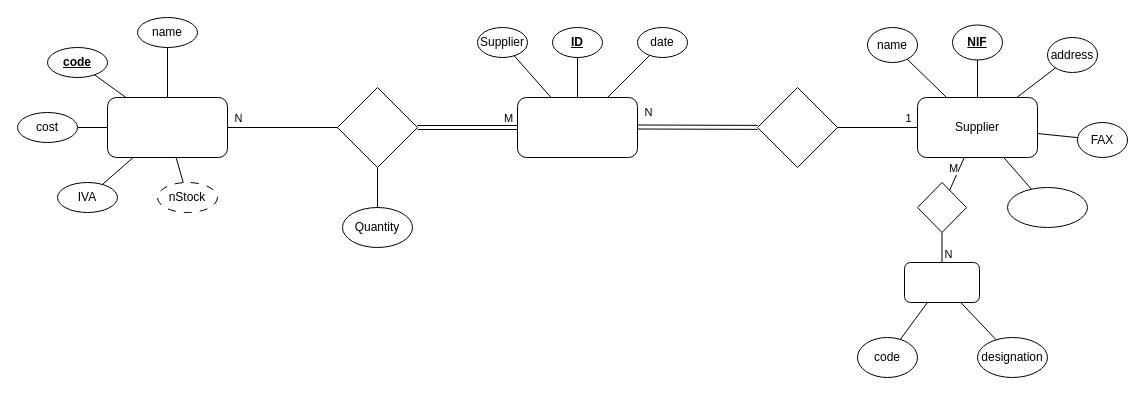
Some shapes in this 1145 by 395 pixel diagram are drawn without their labels. Here are the shapes that lost their labels. From the top down, the centre of each, then its label:
[167,127]: Product
[377,127]: item
[577,127]: Order
[797,127]: supply
[941,207]: tem
[1047,207]: payment conditions
[942,282]: Supplier type
